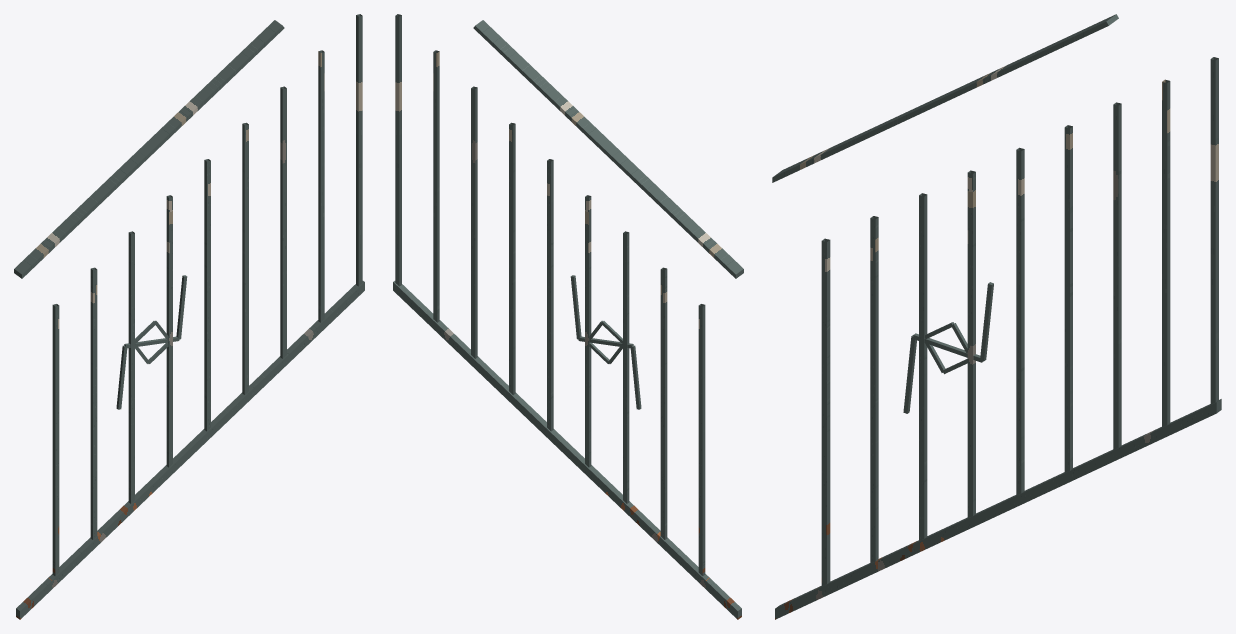
Rendered from LanCan_Xien_T1.glb.
The picture shows the model from 3 angles, left to right: view 1: azimuth 30°, elevation 25°; view 2: azimuth 150°, elevation 25°; view 3: azimuth 330°, elevation 25°; orthographic projection. The views are drawn at different scales.
Visible parts, largest first — view 1: geometry_0; view 2: geometry_0; view 3: geometry_0.
Boxes of the visible parts, x1,y1,x2,y2 form: geometry_0: (14,14,364,619); geometry_0: (393,14,743,619); geometry_0: (772,14,1221,619).
Size of the model in its own units: 1 by 1.48 by 0.04.
1 material, 1 textured.
